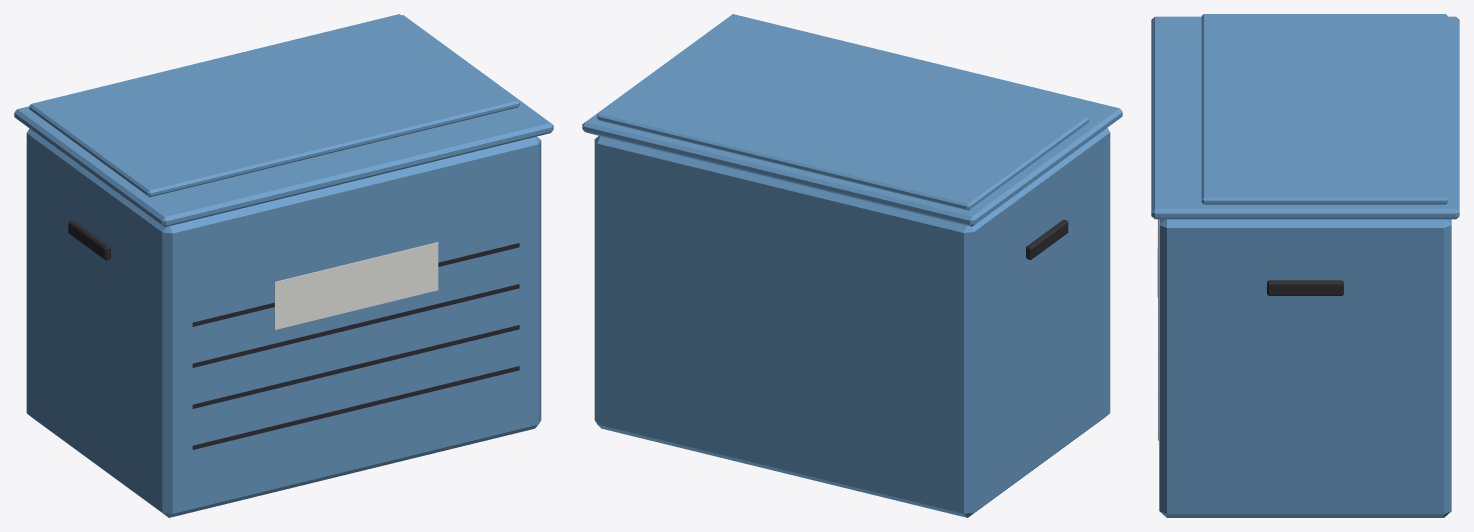
File: returns_bin.fbx
The picture shows the model from 3 angles, left to right: view 1: azimuth 30°, elevation 25°; view 2: azimuth 150°, elevation 25°; view 3: azimuth 270°, elevation 25°; orthographic projection. The views are drawn at different scales.
Parts seen in each view (by area): view 1: Bin; view 2: Bin; view 3: Bin.
Boxes of the visible parts, <box> form: Bin: <box>14,14,553,517</box>; Bin: <box>582,14,1122,517</box>; Bin: <box>1151,14,1459,517</box>.
Bounding box in the file's own units: 1.21 × 0.92 × 0.8.
